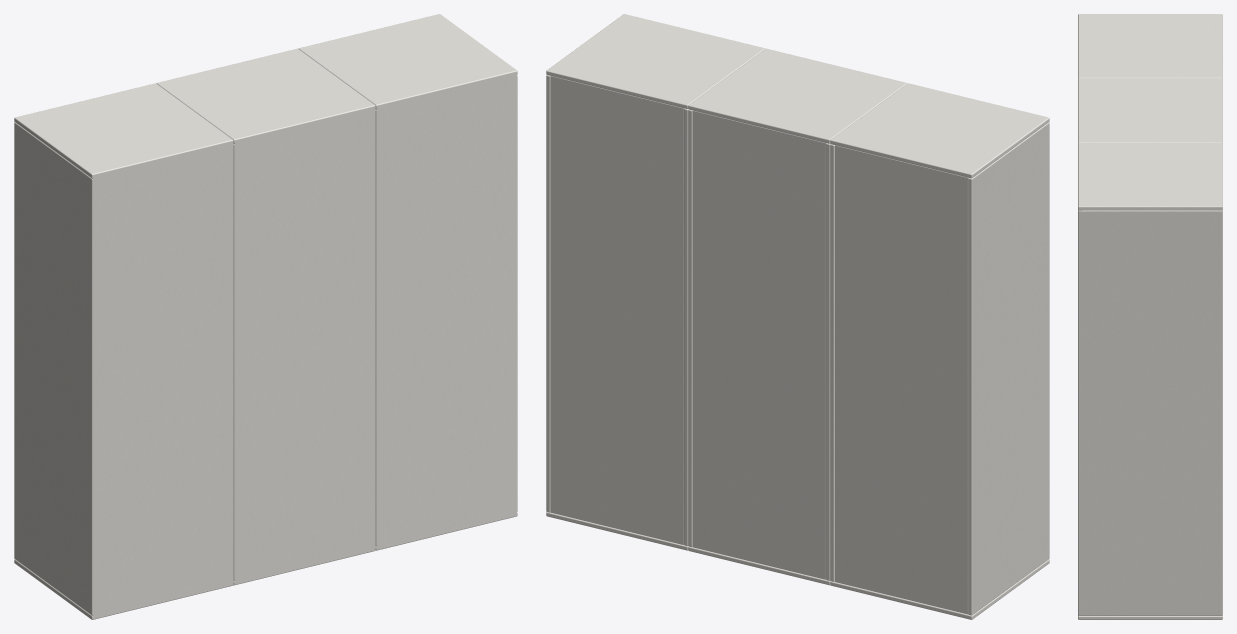
The model's file is platsa.glb.
3 views of the same model, side by side, from view 1: azimuth 30°, elevation 25°; view 2: azimuth 150°, elevation 25°; view 3: azimuth 270°, elevation 25° (orthographic). The views are drawn at different scales.
Visible parts, largest first — view 1: PLATSA / FONNES Wardrobe, 3 doors; view 2: PLATSA / FONNES Wardrobe, 3 doors; view 3: PLATSA / FONNES Wardrobe, 3 doors.
Part boxes in pixels (left/top/right/bottom): PLATSA / FONNES Wardrobe, 3 doors: left=14, top=14, right=517, bottom=619; PLATSA / FONNES Wardrobe, 3 doors: left=546, top=14, right=1049, bottom=619; PLATSA / FONNES Wardrobe, 3 doors: left=1078, top=14, right=1222, bottom=619.
Bounding box in the file's own units: 1.8 × 1.81 × 0.571.
Materials: 1 (1 with a texture image).
